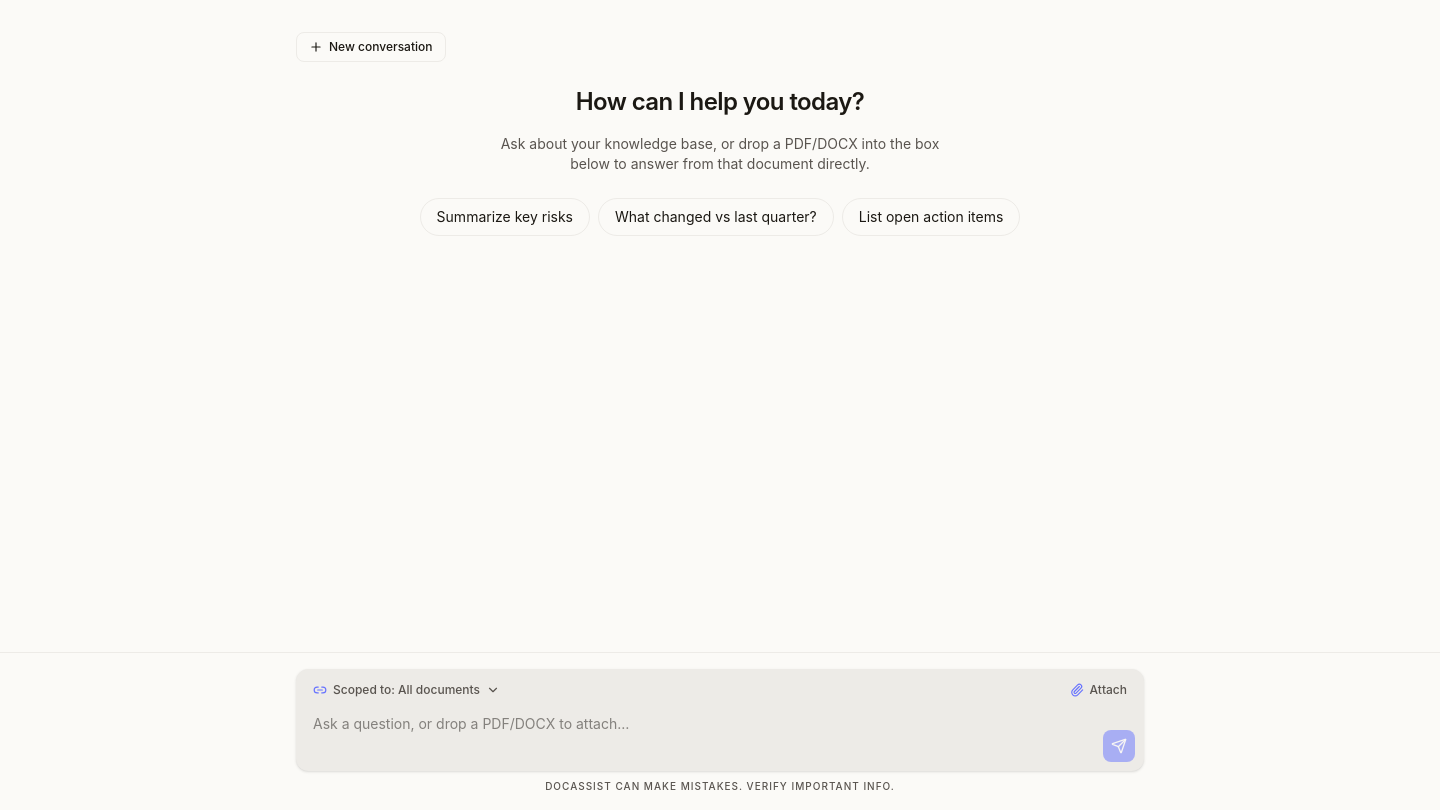
Test: ChatPage (M8) › surfaces a stream failure when the chat request rejects
Type "Hi?" into the text box at (700, 734), box [305,706,1095,762]
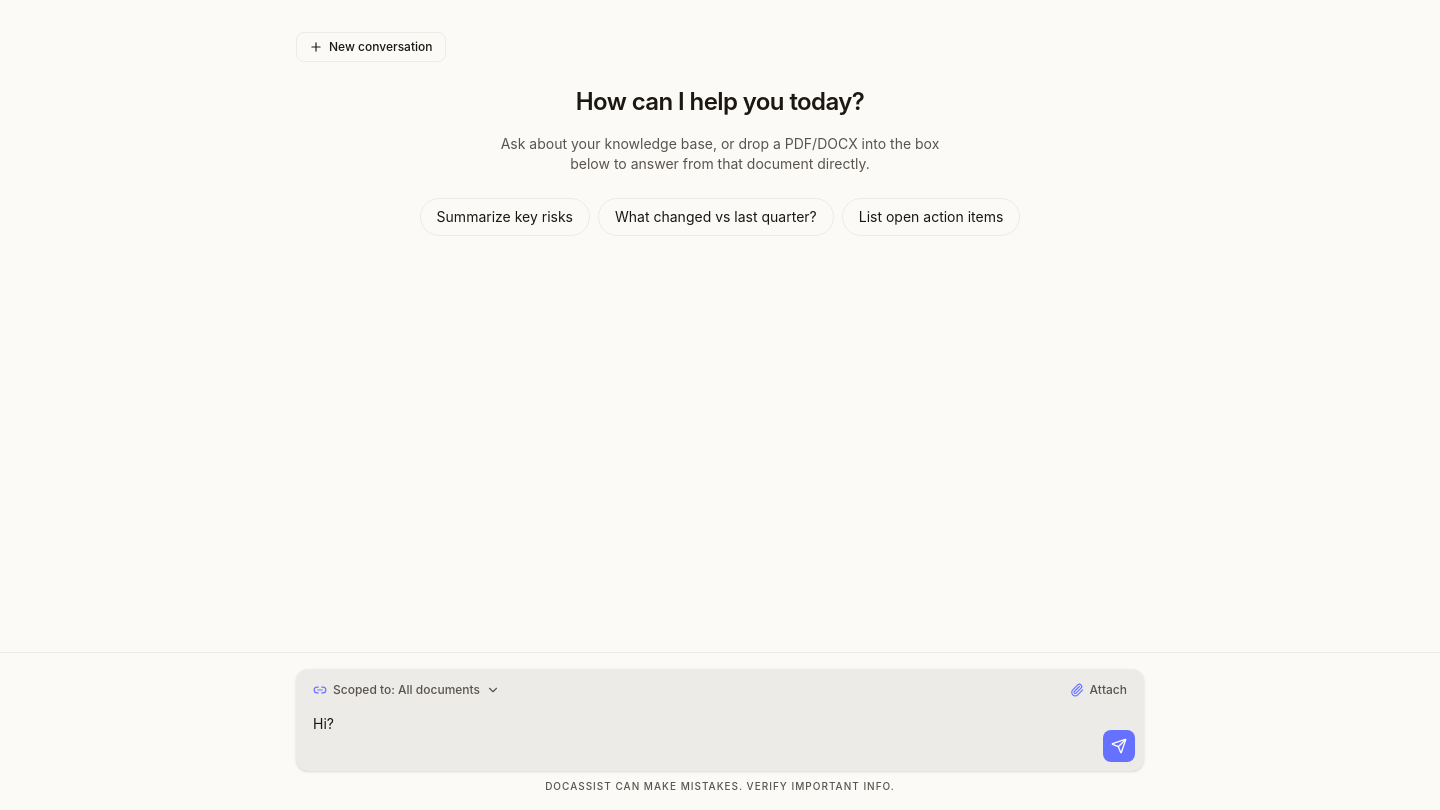
Click the button named "Send message" at (1119, 746), box [1103,730,1135,762]
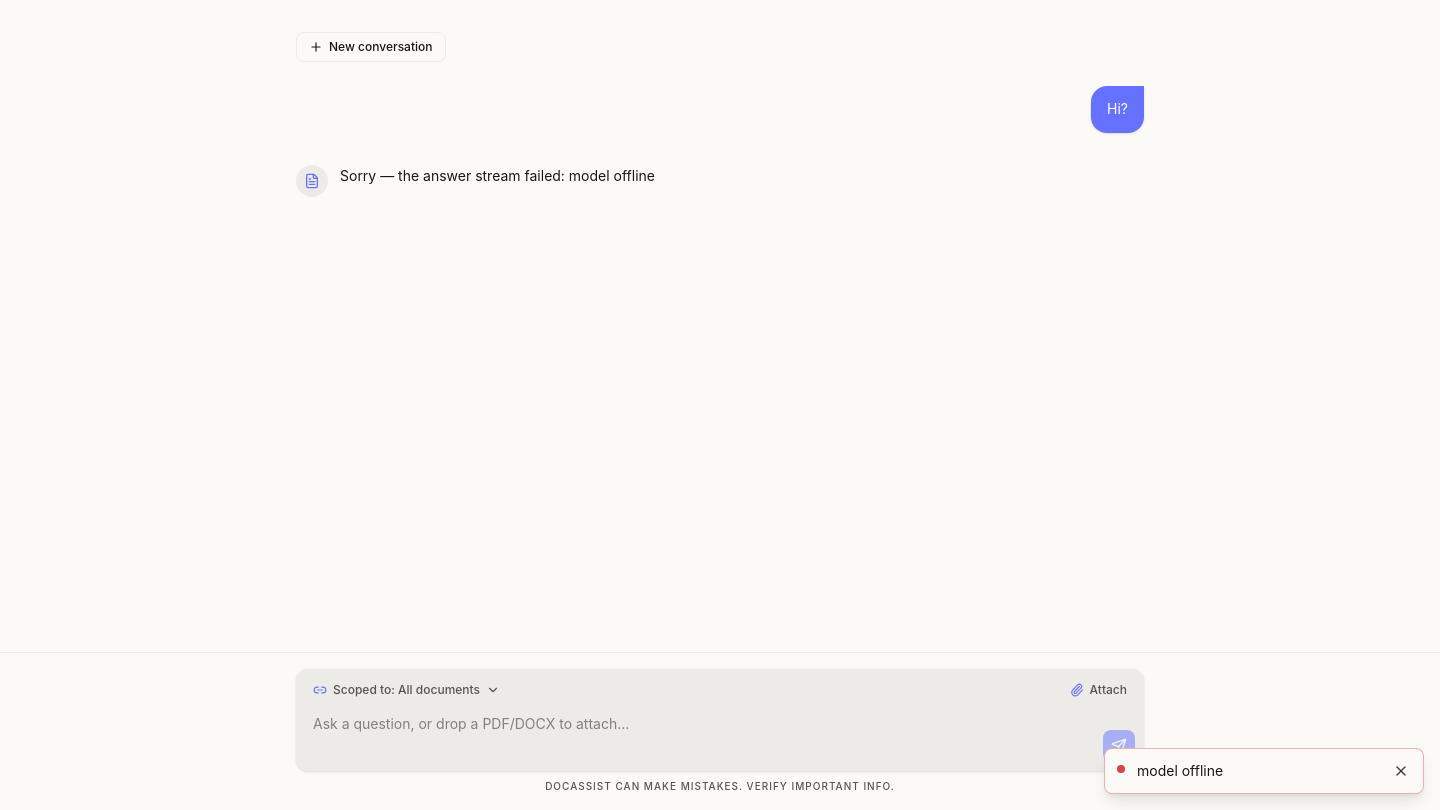
Check: the text "Sorry — the answer stream failed: model offline" is shown, box [340,165,655,188]
